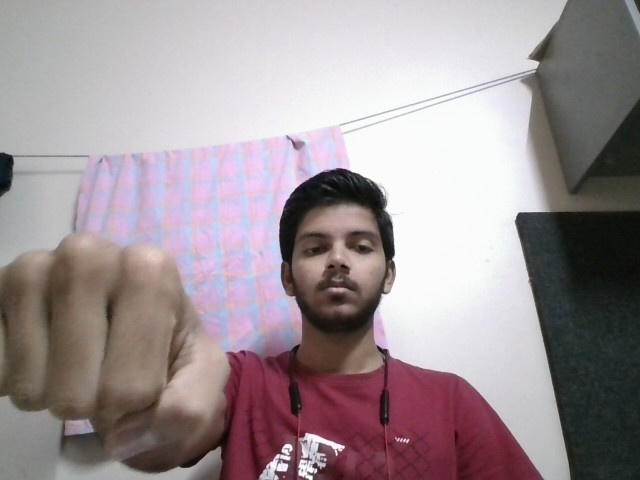No: (1, 230, 240, 462)
